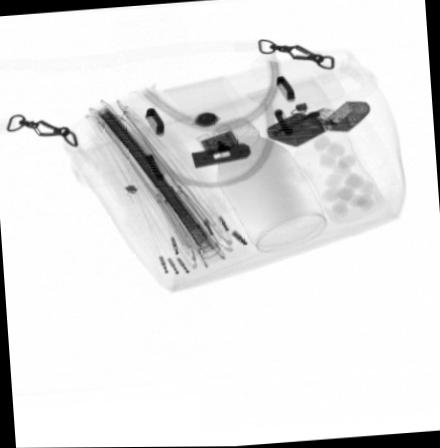Lighter: (265, 99, 370, 147)
